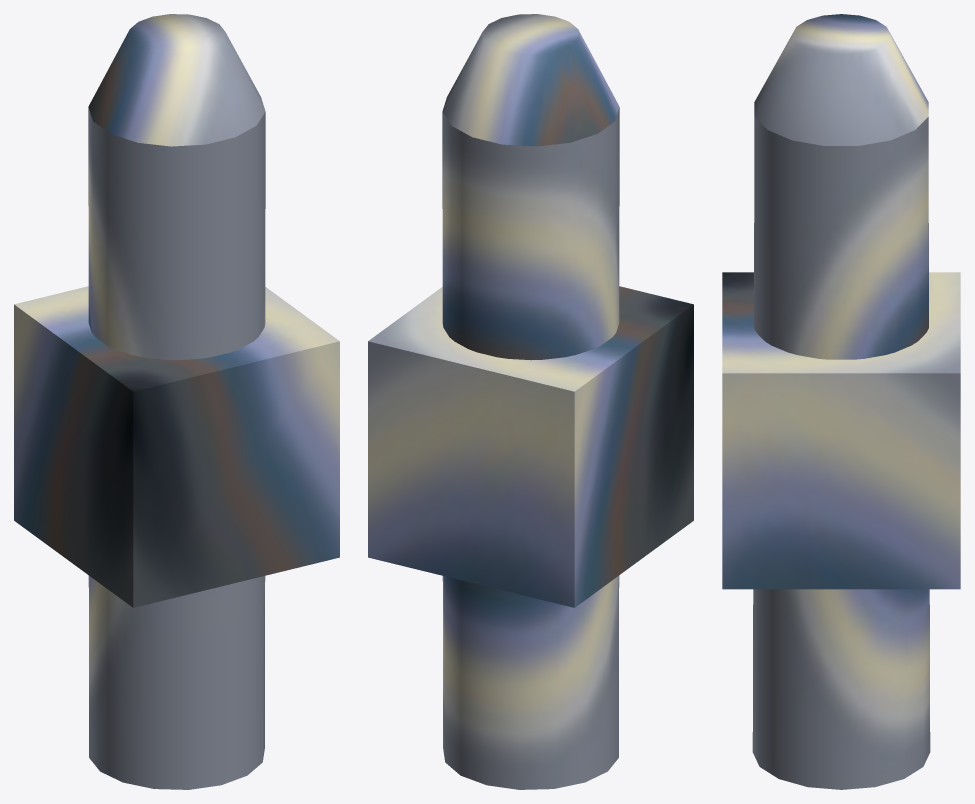
The model's file is post.obj.
3 views of the same model, side by side, from view 1: azimuth 30°, elevation 25°; view 2: azimuth 150°, elevation 25°; view 3: azimuth 270°, elevation 25° (orthographic).
Visible parts, largest first — view 1: cylinder1, cube2; view 2: cylinder1, cube2; view 3: cylinder1, cube2.
Part boxes in pixels (left/top/right/bottom): cylinder1: left=88, top=14, right=265, bottom=789; cube2: left=14, top=286, right=339, bottom=607; cylinder1: left=442, top=14, right=619, bottom=789; cube2: left=368, top=286, right=693, bottom=607; cylinder1: left=752, top=14, right=930, bottom=789; cube2: left=722, top=272, right=960, bottom=589.
Size of the model in its own units: 10.75 by 35.71 by 10.75.
2 materials, 2 textured.
